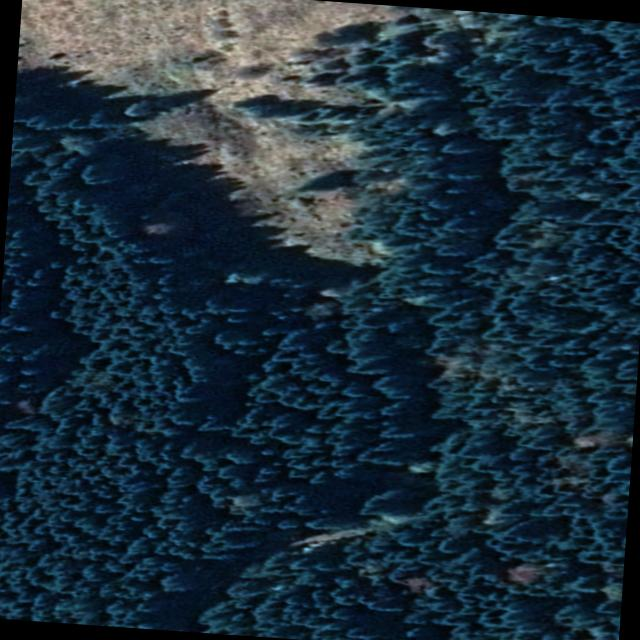bare-soil: (20, 0, 469, 258)
tree: (0, 9, 640, 640)
